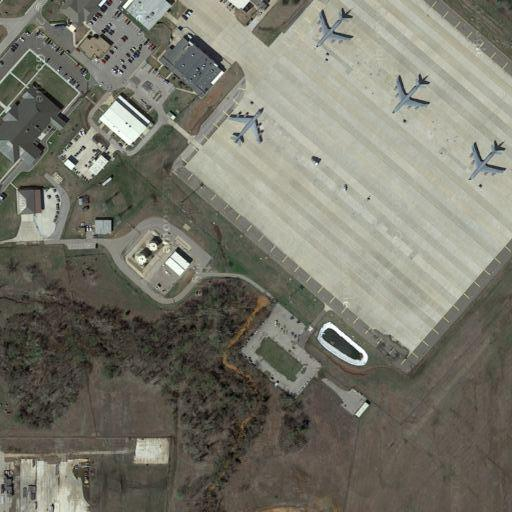KC-135: (467, 136, 510, 182), (227, 104, 268, 148), (391, 71, 431, 114), (316, 7, 356, 49)
